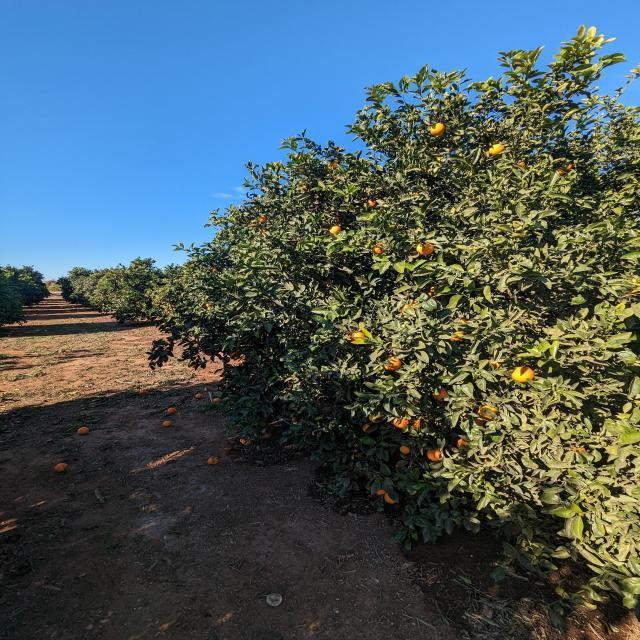Jeruk Sudah Matang: (511, 366, 535, 383), (382, 356, 400, 372), (478, 406, 498, 418), (416, 242, 434, 255), (433, 388, 449, 401), (463, 416, 483, 426), (430, 124, 446, 136), (450, 329, 464, 342), (488, 143, 503, 155), (426, 449, 442, 460), (394, 418, 411, 428), (348, 332, 365, 342), (372, 243, 387, 254), (368, 414, 382, 424), (457, 438, 469, 448), (384, 491, 394, 503), (329, 226, 343, 234), (399, 444, 410, 454), (366, 199, 376, 208), (328, 161, 338, 170), (230, 350, 239, 358), (221, 356, 230, 364), (374, 488, 384, 495), (258, 216, 266, 223), (363, 424, 368, 432), (246, 217, 254, 222)
